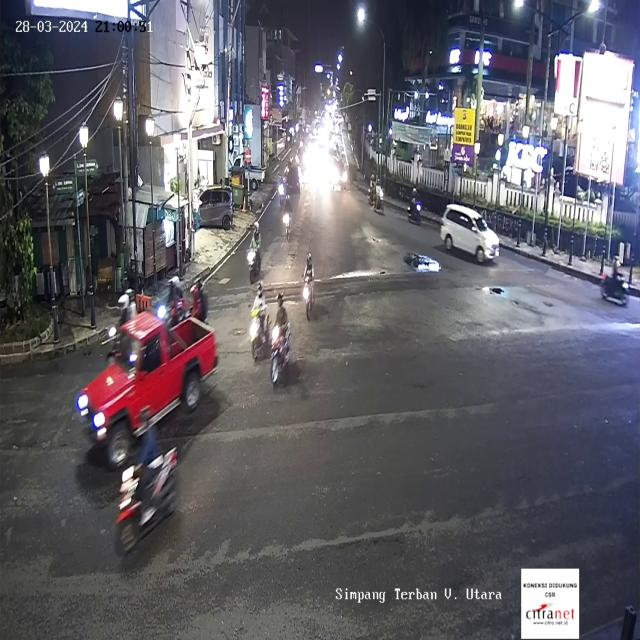car: (439, 203, 501, 265), (596, 254, 630, 310), (196, 187, 235, 233), (408, 185, 424, 233), (372, 178, 385, 213)
motorcycle: (114, 404, 181, 545), (267, 293, 297, 387), (249, 282, 270, 348), (153, 274, 184, 316), (301, 249, 318, 325), (246, 222, 266, 282), (184, 281, 208, 324), (280, 193, 295, 240)
truck: (74, 307, 218, 473)
